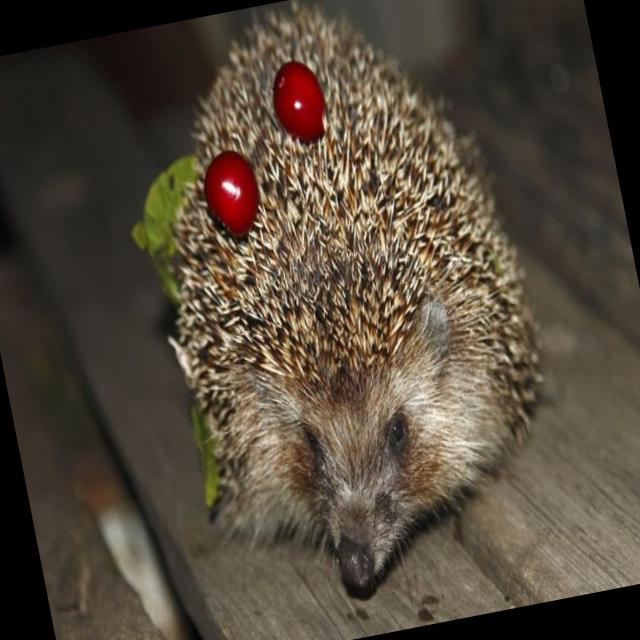Hedgehog: (96, 0, 577, 623)
